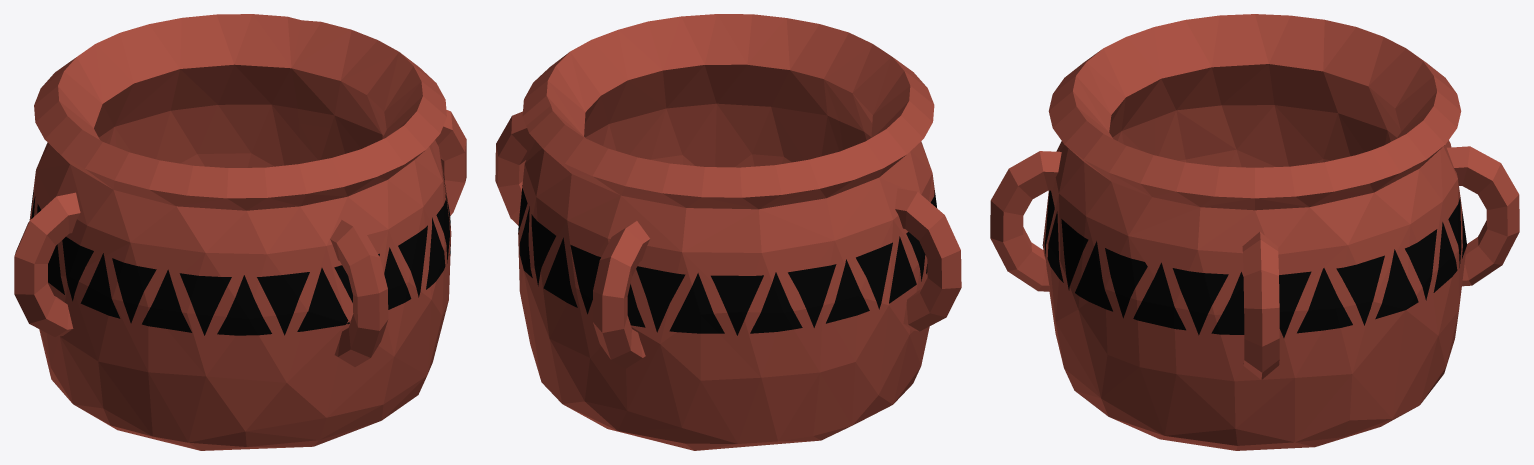
File: Pottery 22_2b.fbx
3 renders of one model, left to right at view 1: azimuth 30°, elevation 25°; view 2: azimuth 150°, elevation 25°; view 3: azimuth 270°, elevation 25°, orthographic.
Parts seen in each view (by area): view 1: Pottery 6_2b.011, Pottery 6_2b.012, Pottery 6_2b.008, Pottery 6_2b.010, Pottery 22_2b, Pottery 6_2b.006, Pottery 6_2b.013; view 2: Pottery 6_2b.008, Pottery 6_2b.013, Pottery 6_2b.012, Pottery 22_2b, Pottery 6_2b.006, Pottery 6_2b.010, Pottery 6_2b.011; view 3: Pottery 6_2b.006, Pottery 6_2b.008, Pottery 6_2b.012, Pottery 6_2b.010, Pottery 22_2b, Pottery 6_2b.013, Pottery 6_2b.011.
Boxes of the visible parts, box(x1,y1,x2,y2) form: Pottery 6_2b.011: box(148, 160, 308, 402); Pottery 6_2b.012: box(294, 96, 446, 392); Pottery 6_2b.008: box(77, 14, 301, 167); Pottery 6_2b.010: box(14, 116, 176, 379); Pottery 22_2b: box(39, 316, 442, 450); Pottery 6_2b.006: box(291, 20, 466, 340); Pottery 6_2b.013: box(29, 57, 102, 220); Pottery 6_2b.008: box(521, 105, 774, 410); Pottery 6_2b.013: box(740, 141, 893, 372); Pottery 6_2b.012: box(648, 14, 848, 167); Pottery 22_2b: box(520, 293, 927, 450); Pottery 6_2b.006: box(495, 21, 682, 317); Pottery 6_2b.010: box(865, 85, 961, 360); Pottery 6_2b.011: box(824, 32, 933, 153); Pottery 6_2b.006: box(1105, 150, 1399, 428); Pottery 6_2b.008: box(1368, 48, 1519, 356); Pottery 6_2b.012: box(990, 76, 1153, 356); Pottery 6_2b.010: box(1154, 14, 1290, 167); Pottery 22_2b: box(1051, 303, 1458, 450); Pottery 6_2b.013: box(1269, 15, 1405, 166); Pottery 6_2b.011: box(1053, 27, 1161, 155).
Size of the model in its own units: 64.97 by 40.16 by 64.97.
